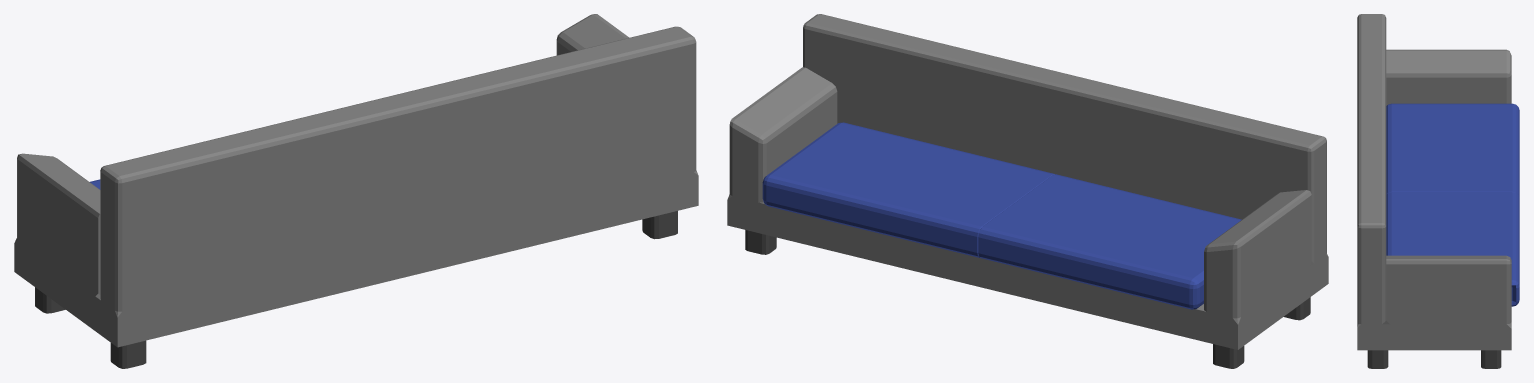
Rendered from Sofa.fbx.
The picture shows the model from 3 angles, left to right: view 1: azimuth 30°, elevation 25°; view 2: azimuth 150°, elevation 25°; view 3: azimuth 270°, elevation 25°; orthographic projection. The views are drawn at different scales.
Parts seen in each view (by area): view 1: Sofa; view 2: Sofa; view 3: Sofa.
Part boxes in pixels (bbox=[...]): Sofa: bbox=[14, 14, 698, 368]; Sofa: bbox=[727, 14, 1328, 368]; Sofa: bbox=[1357, 14, 1519, 368].
Size of the model in its own units: 260 by 84.84 by 84.09.
